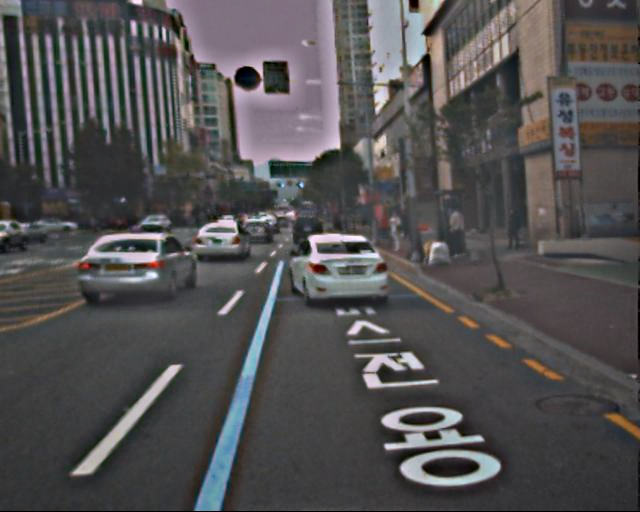person: (446, 205, 469, 261), (385, 208, 404, 255), (504, 208, 522, 252)
